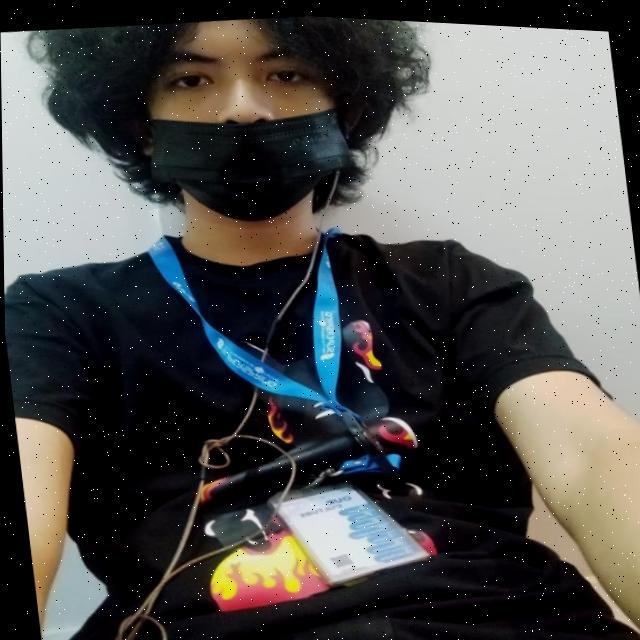id_card: (125, 182, 439, 593)
